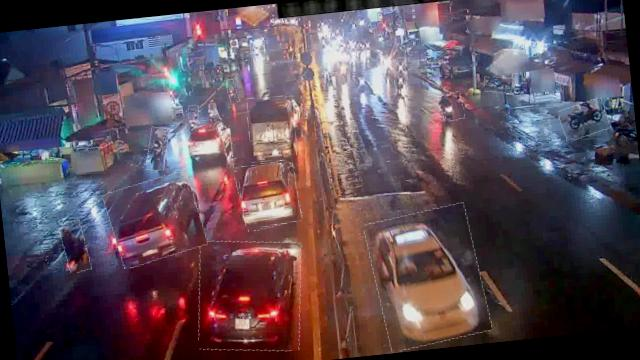Bike: (558, 99, 610, 141), (60, 221, 90, 274), (145, 126, 171, 172), (439, 92, 465, 122), (484, 74, 516, 94), (206, 98, 224, 120), (393, 72, 408, 94), (226, 78, 238, 103), (356, 72, 368, 94), (188, 105, 200, 125), (396, 57, 407, 74)
Car: (366, 204, 490, 351), (191, 234, 308, 358), (104, 173, 206, 266), (235, 160, 302, 231), (237, 160, 301, 229), (186, 118, 234, 173)
Truck: (246, 94, 299, 163)
